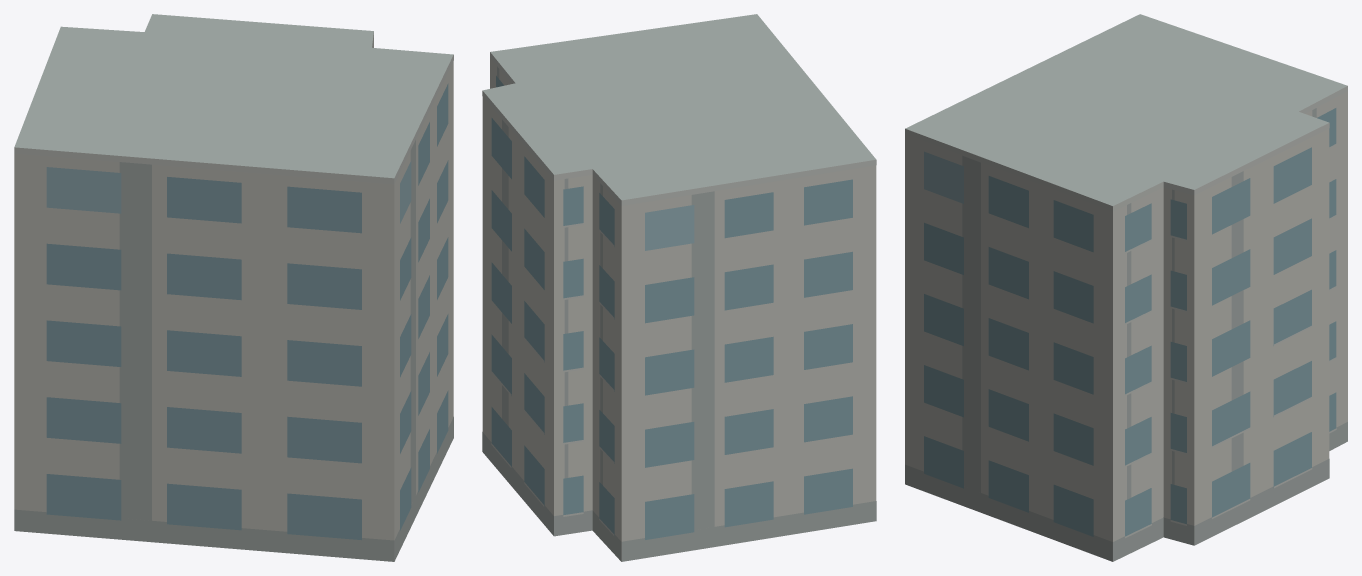
Rendered from survey-upis-32680479.glb.
The picture shows the model from 3 angles, left to right: view 1: azimuth 30°, elevation 25°; view 2: azimuth 150°, elevation 25°; view 3: azimuth 270°, elevation 25°; orthographic projection. The views are drawn at different scales.
Parts seen in each view (by area): view 1: survey-upis-32680479.tmp; view 2: survey-upis-32680479.tmp; view 3: survey-upis-32680479.tmp.
Part boxes in pixels (<box>): survey-upis-32680479.tmp: <box>14,14,453,561</box>; survey-upis-32680479.tmp: <box>482,14,876,561</box>; survey-upis-32680479.tmp: <box>905,14,1347,561</box>.
Size of the model in its own units: 17.91 by 15.45 by 17.44.
